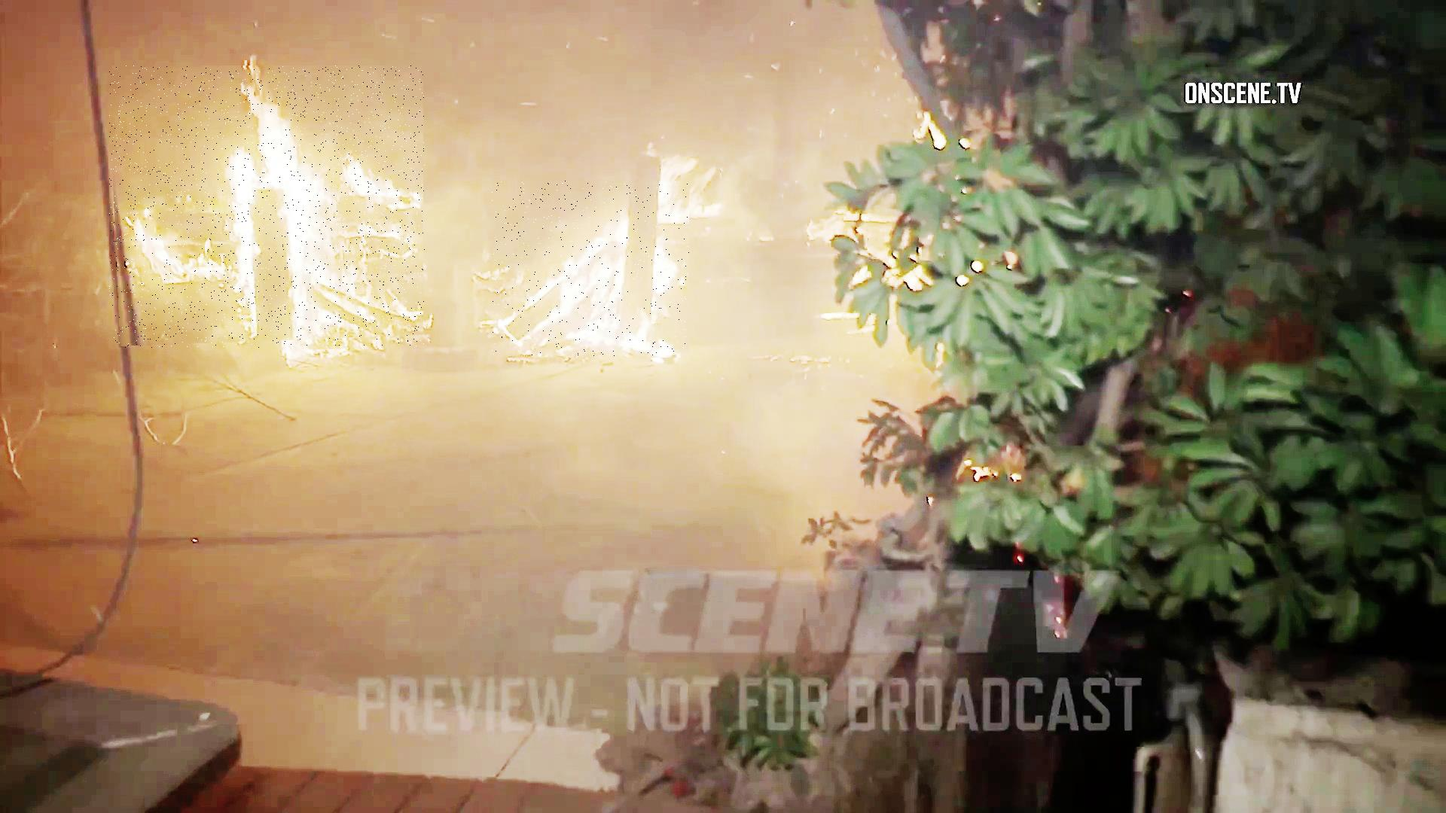fire: (110, 66, 425, 348), (492, 181, 689, 358)
